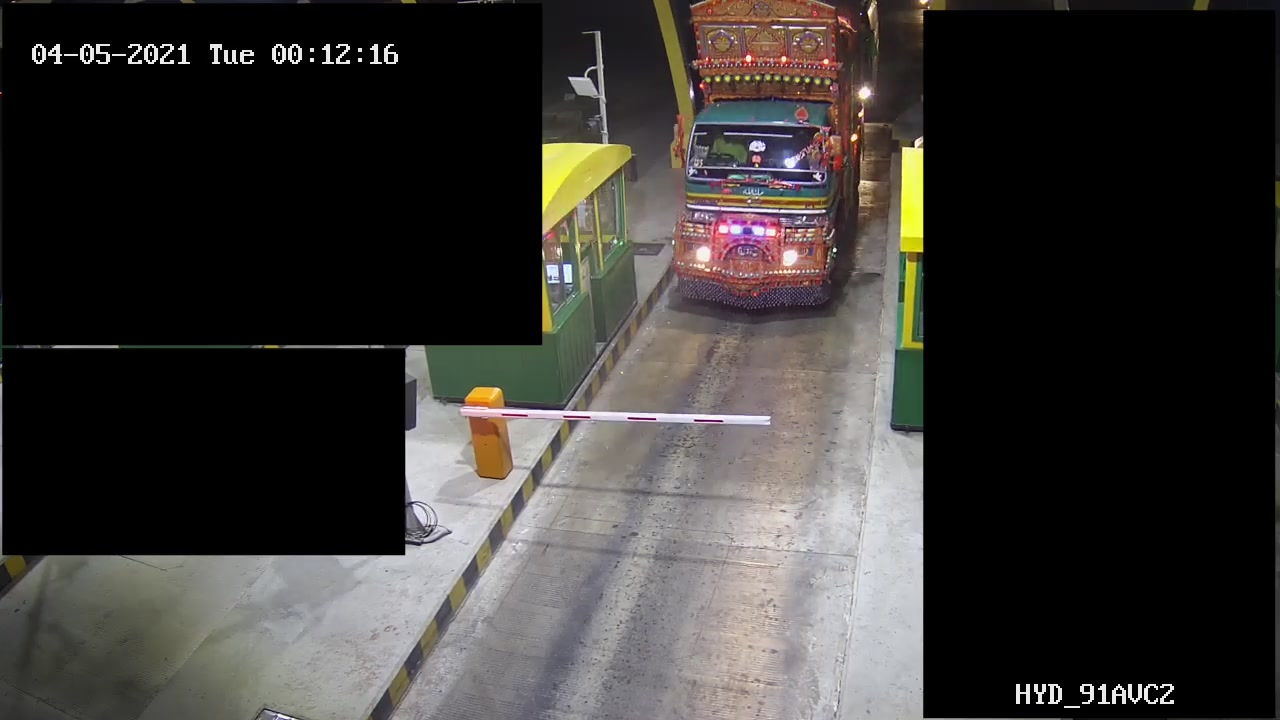F5: (662, 1, 875, 314)
